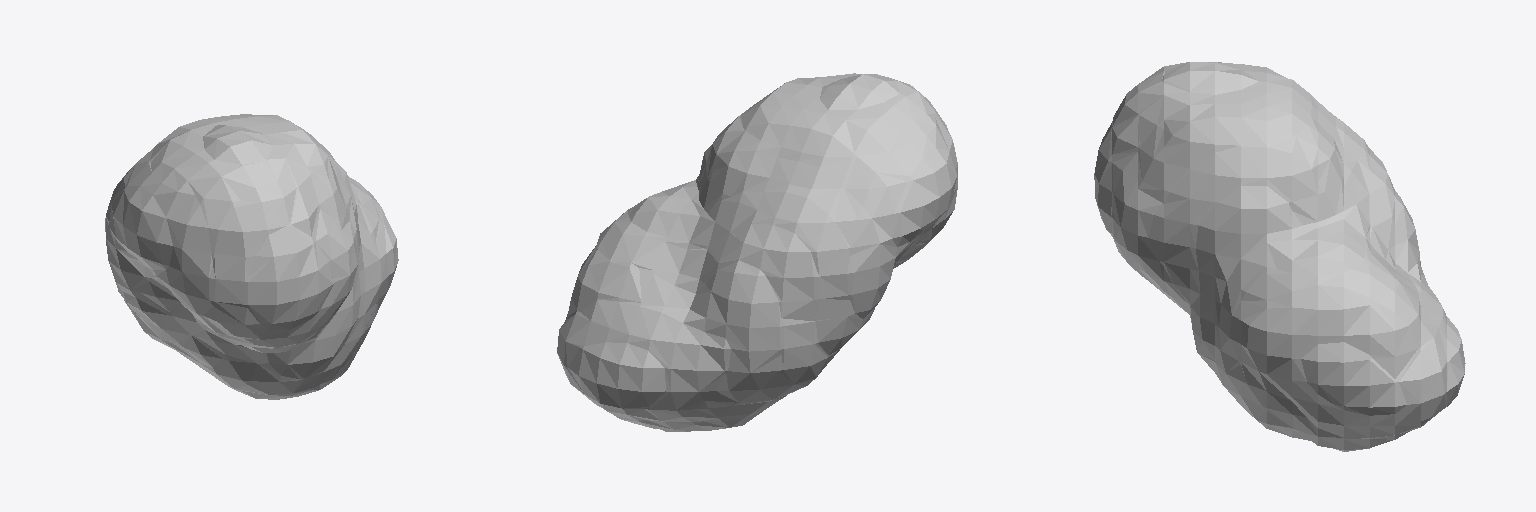
Rendered from 1rvg_1_cms.obj.
3 views of the same model, side by side, from view 1: azimuth 30°, elevation 25°; view 2: azimuth 150°, elevation 25°; view 3: azimuth 270°, elevation 25° (orthographic).
Size of the model in its own units: 88.64 by 89.43 by 93.42.